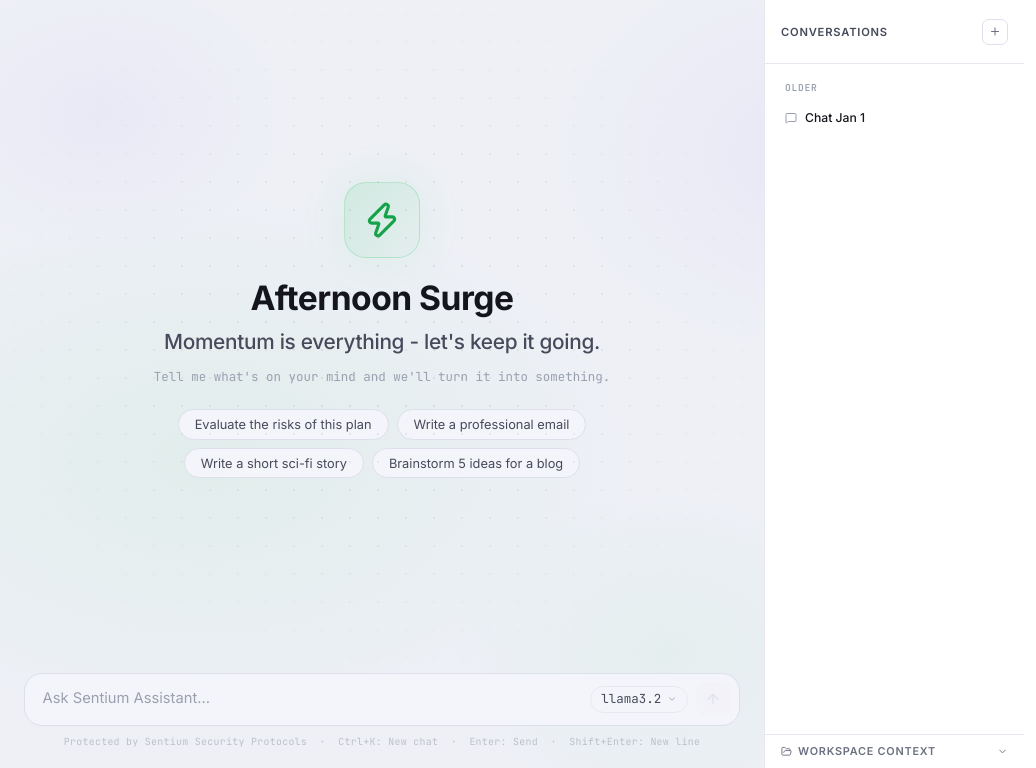
Scenario: Assistant workspace context panel › opens workspace context panel when Workspace Context is clicked
Click the button "Workspace Context".
click(894, 751)  # box [765, 735, 1024, 767]
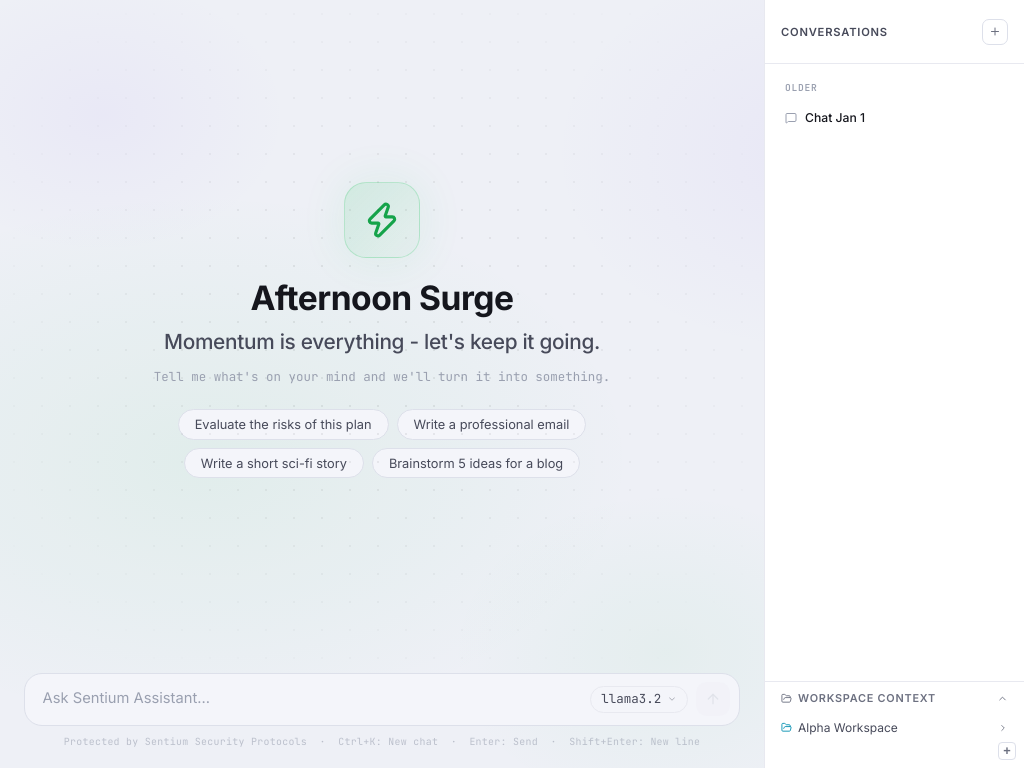
Check: the text "Alpha Workspace" is shown, box [798, 720, 898, 735]
